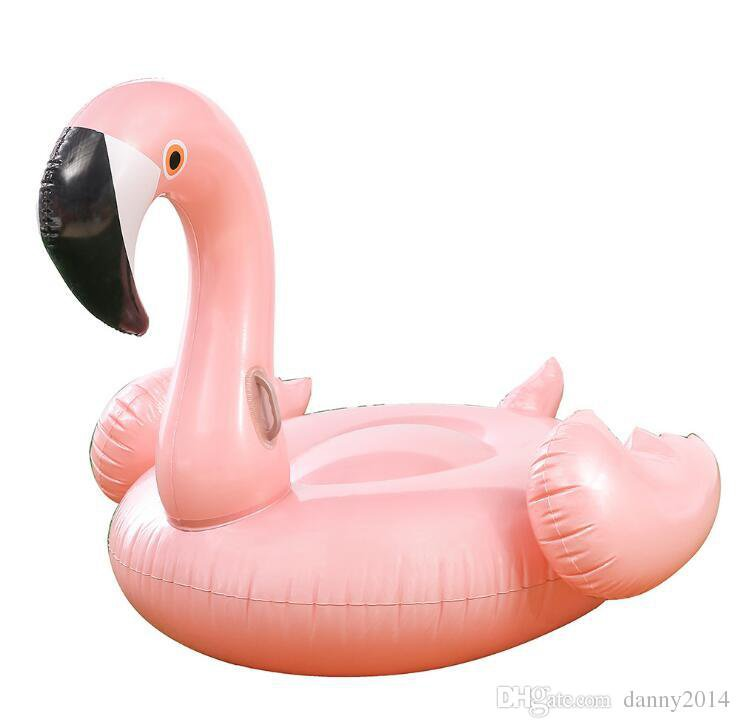Flamingo: (33, 73, 721, 682)
